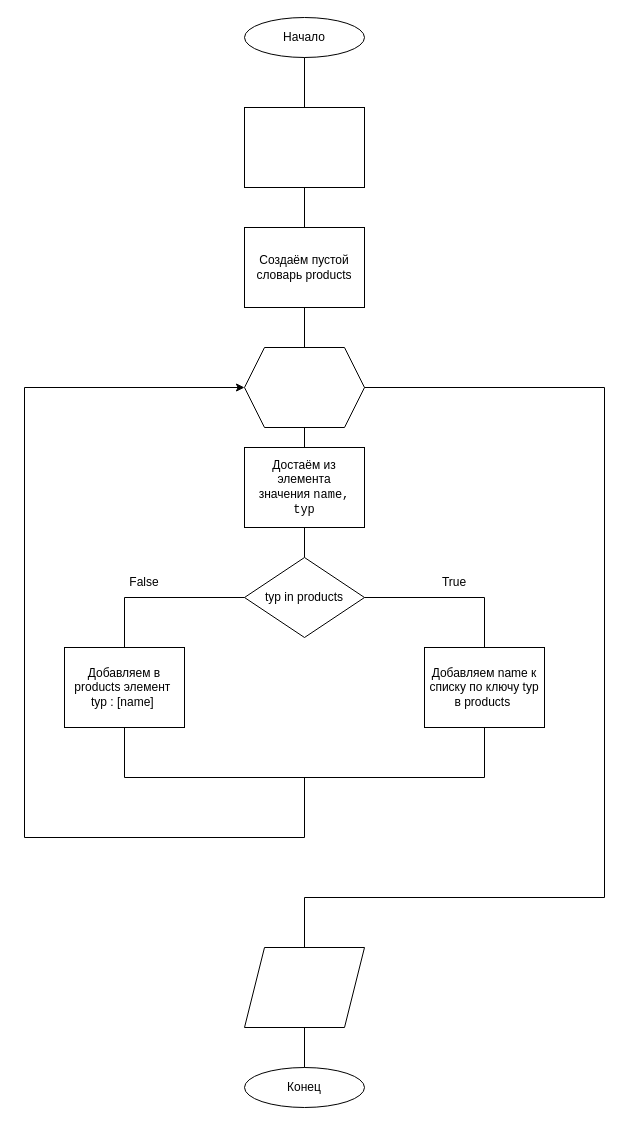
Image size: 623x1125. Some labels were removed from this diagram. Here are the shapes that lost their labels. From the top down, the centre of each, then its label:
At point 304,147: "Задаём список кортежей items".
At point 304,387: "Проходим по элементам items".
At point 304,987: "Вывод products".
